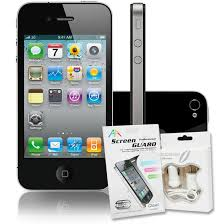iphone: (16, 1, 116, 197)
iphone4: (13, 1, 118, 193)
